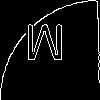M: (24, 24, 65, 70)
